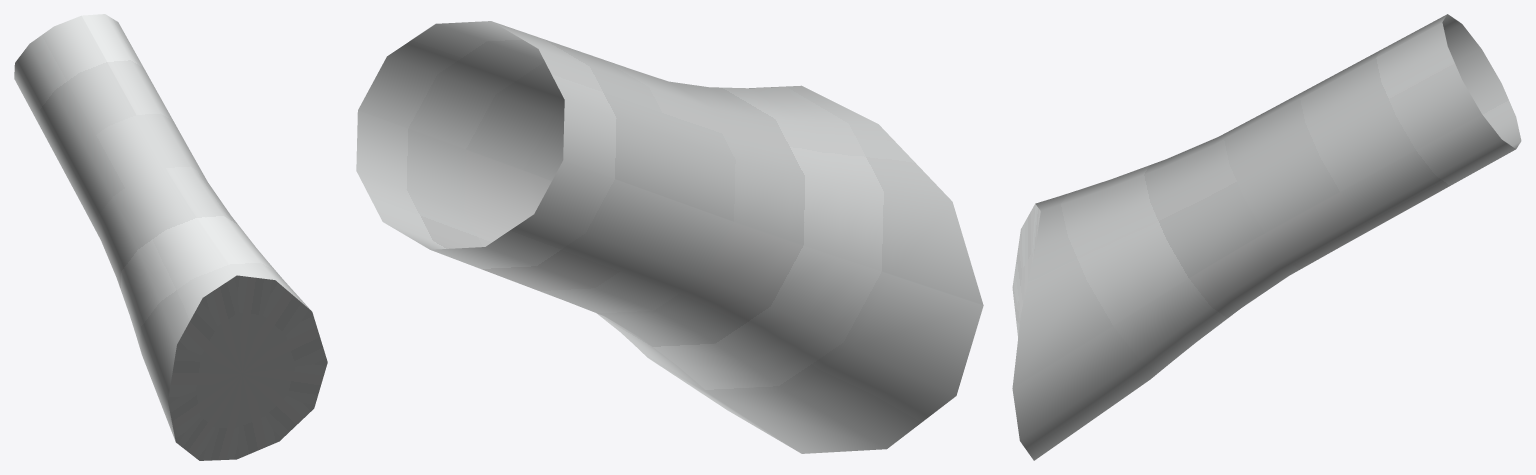
The model's file is luminairearm_caltrans8ftstraightdouble_c0.obj.
3 views of the same model, side by side, from view 1: azimuth 30°, elevation 25°; view 2: azimuth 150°, elevation 25°; view 3: azimuth 270°, elevation 25° (orthographic). The views are drawn at different scales.
Parts seen in each view (by area): view 1: luminairearm_caltrans8ftstraightdouble_c0; view 2: luminairearm_caltrans8ftstraightdouble_c0; view 3: luminairearm_caltrans8ftstraightdouble_c0.
Part boxes in pixels (x1,y1,x2,y2): luminairearm_caltrans8ftstraightdouble_c0: (14, 14, 327, 460); luminairearm_caltrans8ftstraightdouble_c0: (356, 21, 983, 453); luminairearm_caltrans8ftstraightdouble_c0: (1012, 14, 1521, 460).
Bounding box in the file's own units: 0.3375 × 0.6661 × 0.7201.
